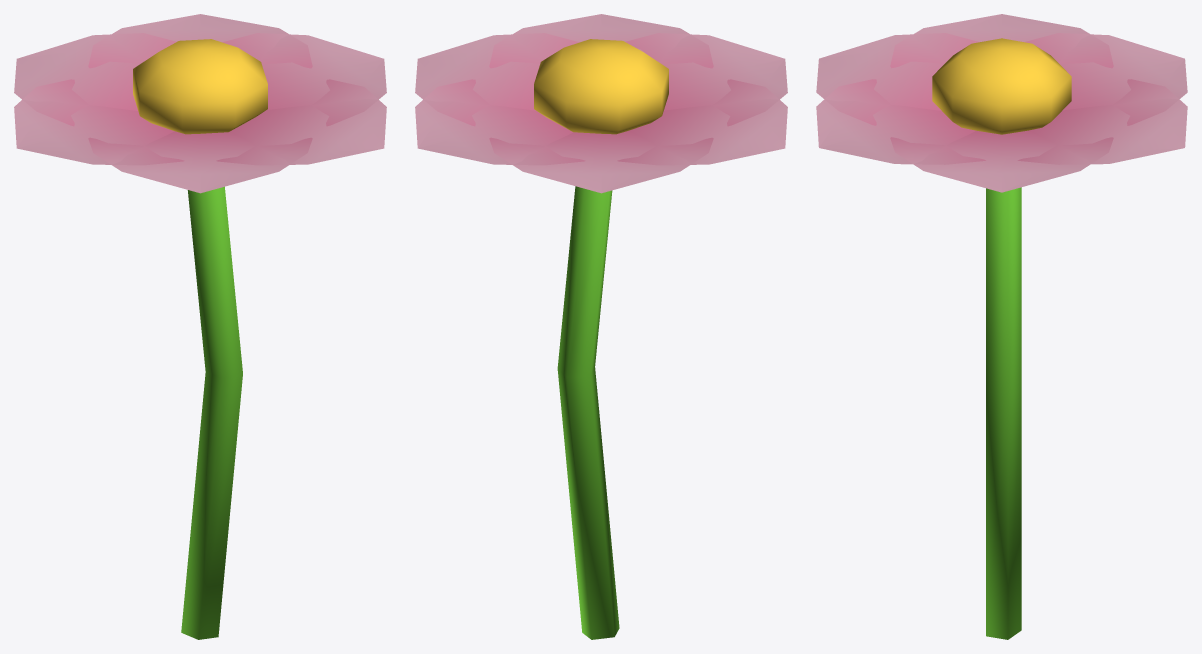
The model's file is daisy_pink.glb.
3 views of the same model, side by side, from view 1: azimuth 30°, elevation 25°; view 2: azimuth 150°, elevation 25°; view 3: azimuth 270°, elevation 25° (orthographic).
Visible parts, largest first — view 1: daisy_pink; view 2: daisy_pink; view 3: daisy_pink.
Part boxes in pixels (box(x1,y1,x2,y2)): daisy_pink: box(14, 14, 386, 639); daisy_pink: box(415, 14, 787, 639); daisy_pink: box(816, 14, 1187, 639).
Size of the model in its own units: 0.15 by 0.2283 by 0.1318.
